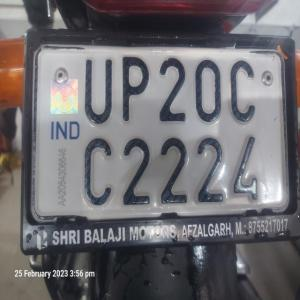Plate: (26, 38, 295, 221)
